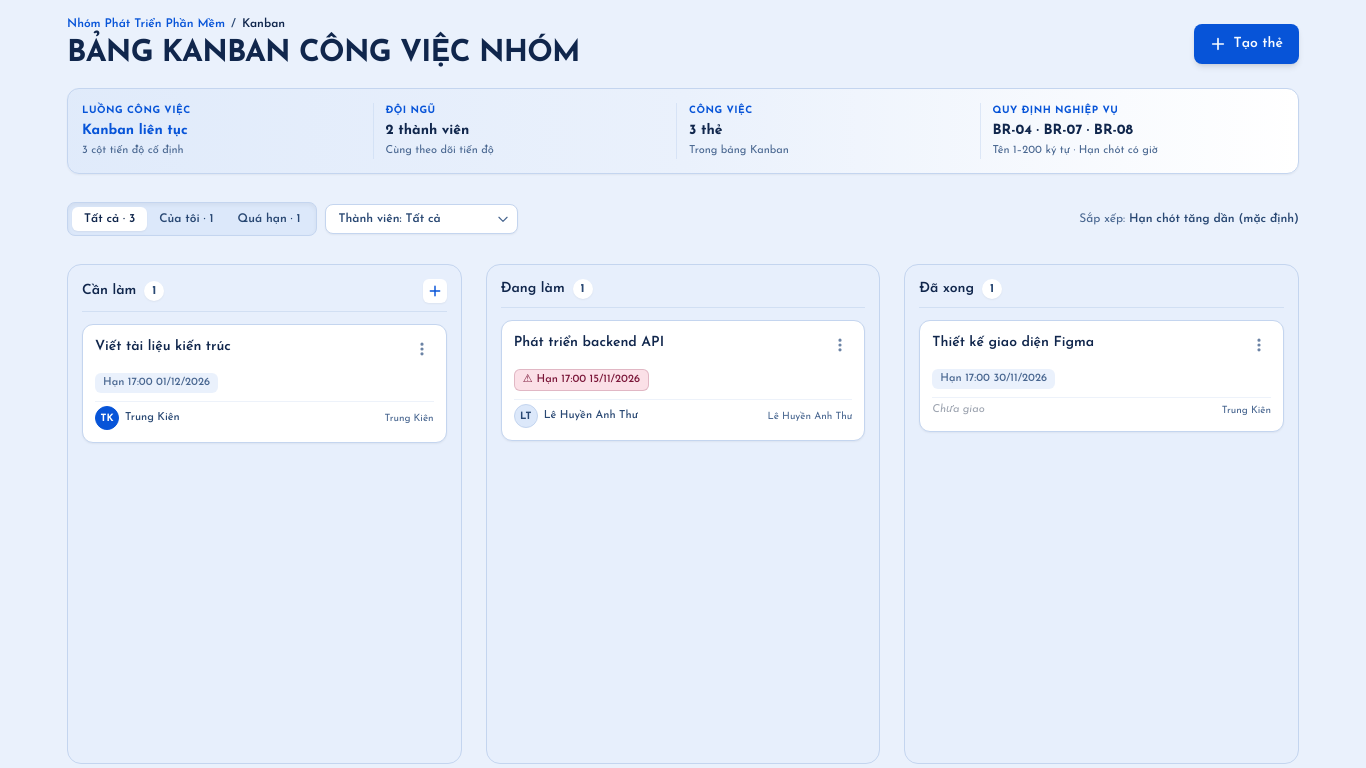
KanbanPage Integration Tests › TC-KB-02: Bộ lọc nhanh (Tất cả, Của tôi, Quá hạn)
The width and height of the screenshot is (1366, 768).
expect the heading "Viết tài liệu kiến trúc" is shown: met, box [95,339,231,354]
Click the button "Của tôi · 1".
click(186, 219)  # box [147,207,226,231]
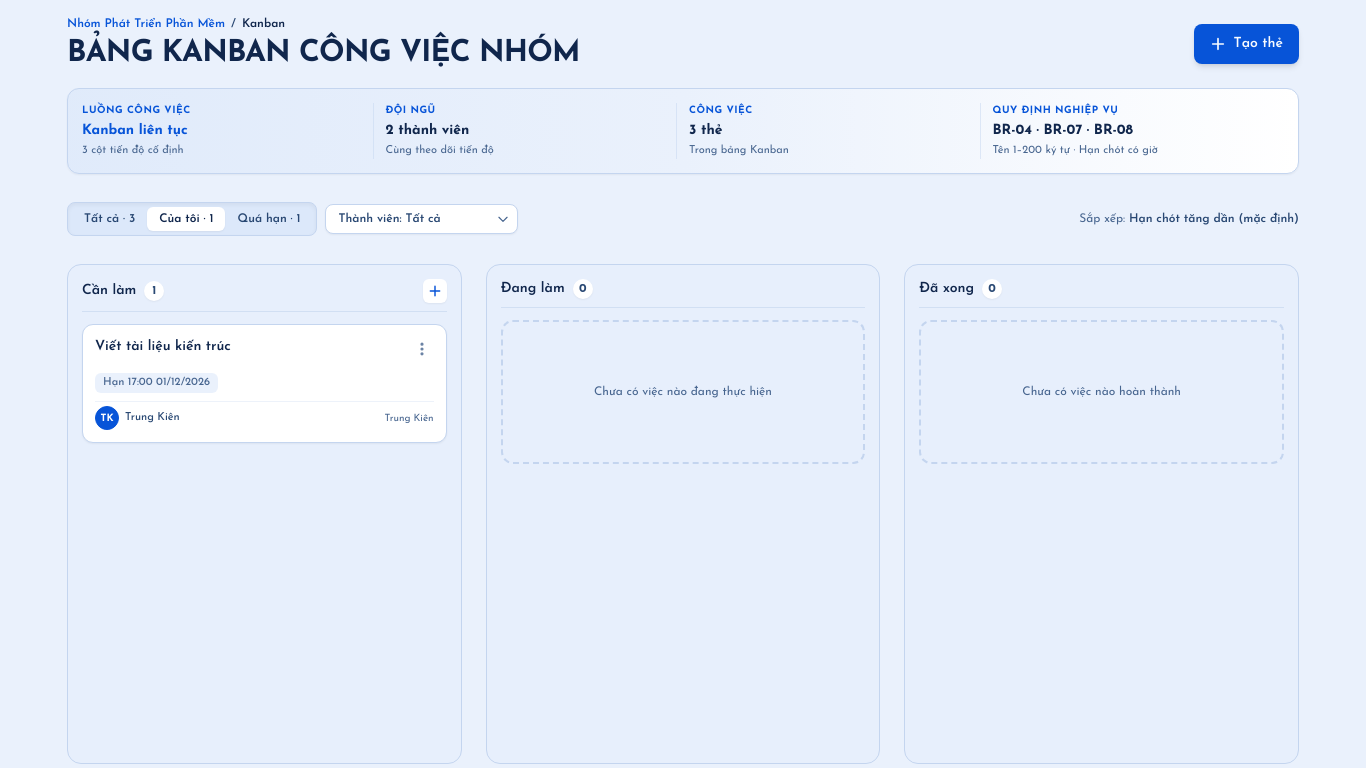
expect the heading "Viết tài liệu kiến trúc" is shown: met, box [95,339,231,354]
expect the heading "Phát triển backend API" is gone: met
expect the heading "Thiết kế giao diện Figma" is gone: met
Click the button "Quá hạn · 1".
click(269, 219)  # box [226,207,312,231]
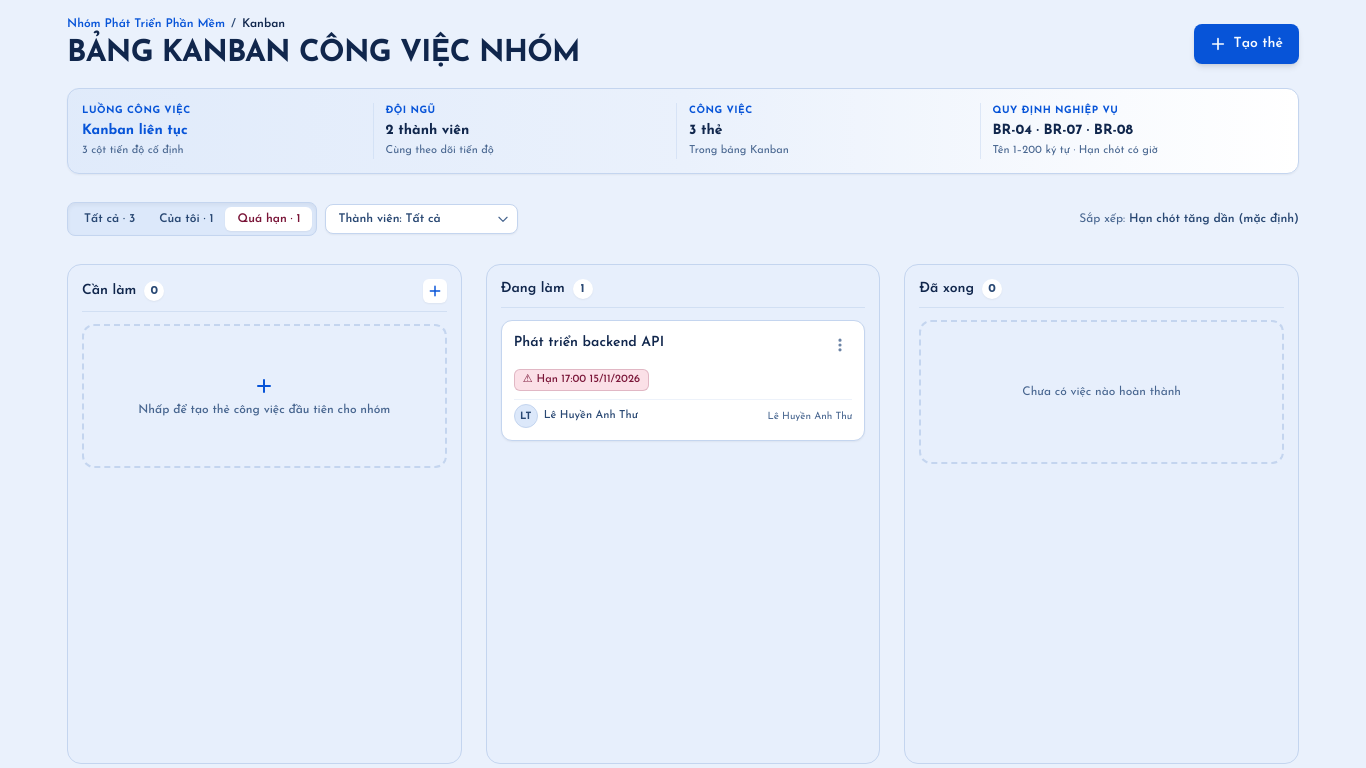
expect the heading "Viết tài liệu kiến trúc" is gone: met
expect the heading "Phát triển backend API" is shown: met, box [514,335,664,350]
